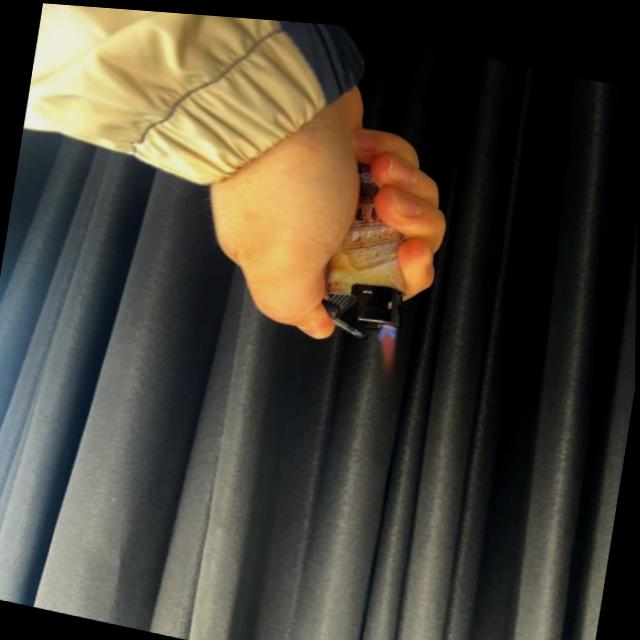Fire: (370, 316, 405, 374)
